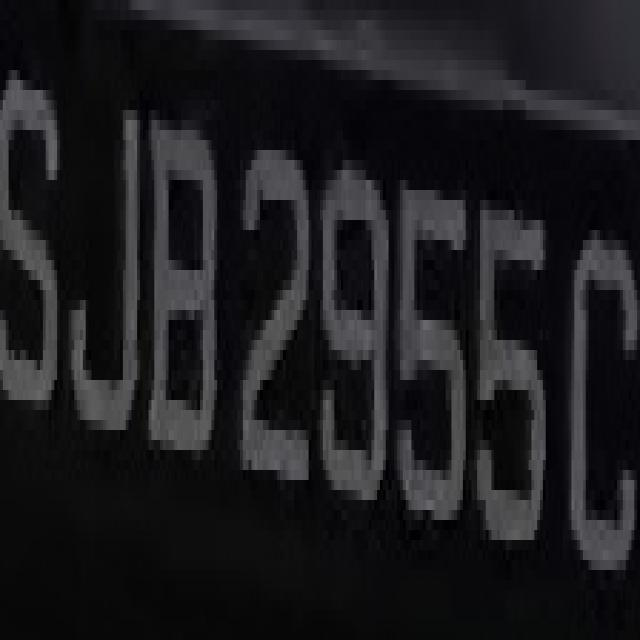2: (237, 120, 320, 530)
5: (468, 160, 552, 570), (394, 130, 466, 520)
9: (317, 110, 394, 530)
B: (146, 50, 223, 510)
C: (560, 200, 640, 590)
J: (65, 80, 148, 460)
S: (3, 30, 68, 450)
